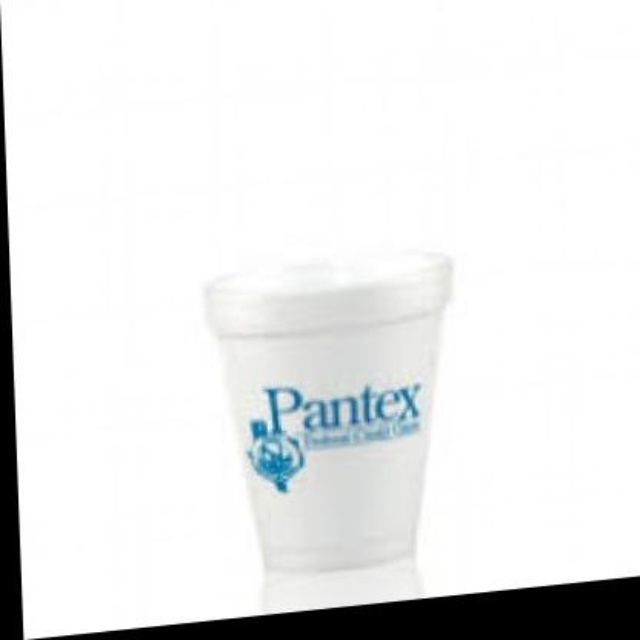trash: (206, 254, 451, 569)
